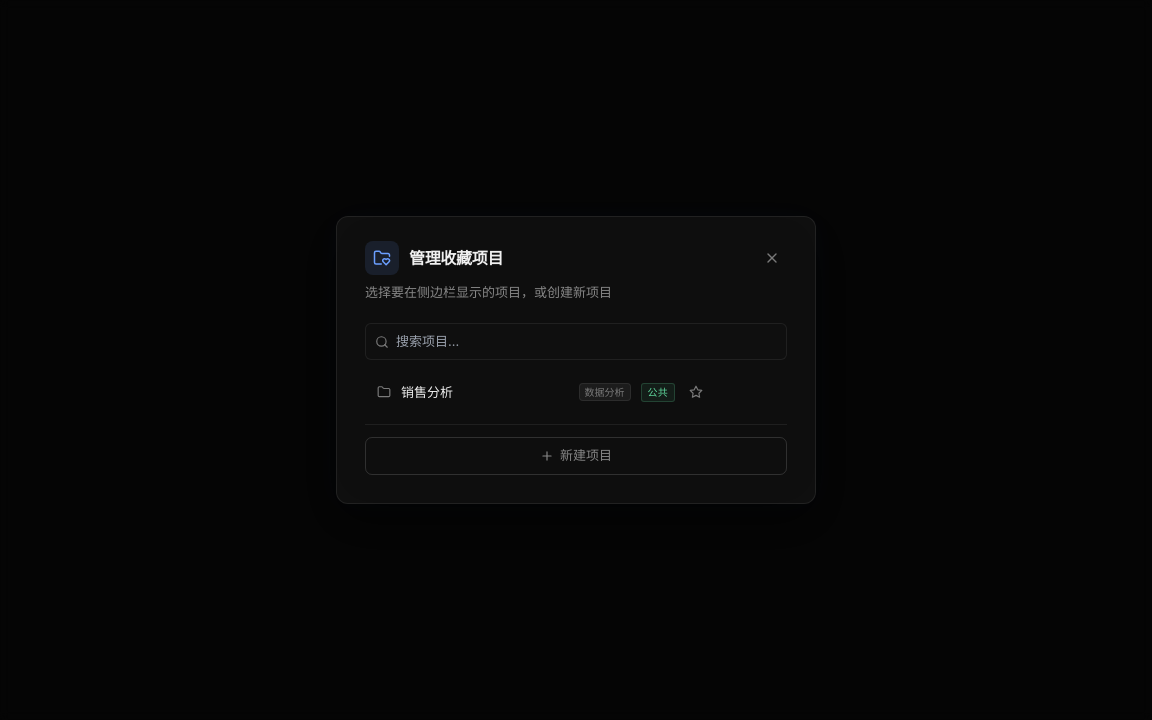
Test: ProjectPickerDialog › shows the empty hint when no project matches
Type "不存在的项目" into the field with placeholder "搜索项目…" at x=576, y=342, box x1=365 y1=323 x2=787 y2=360
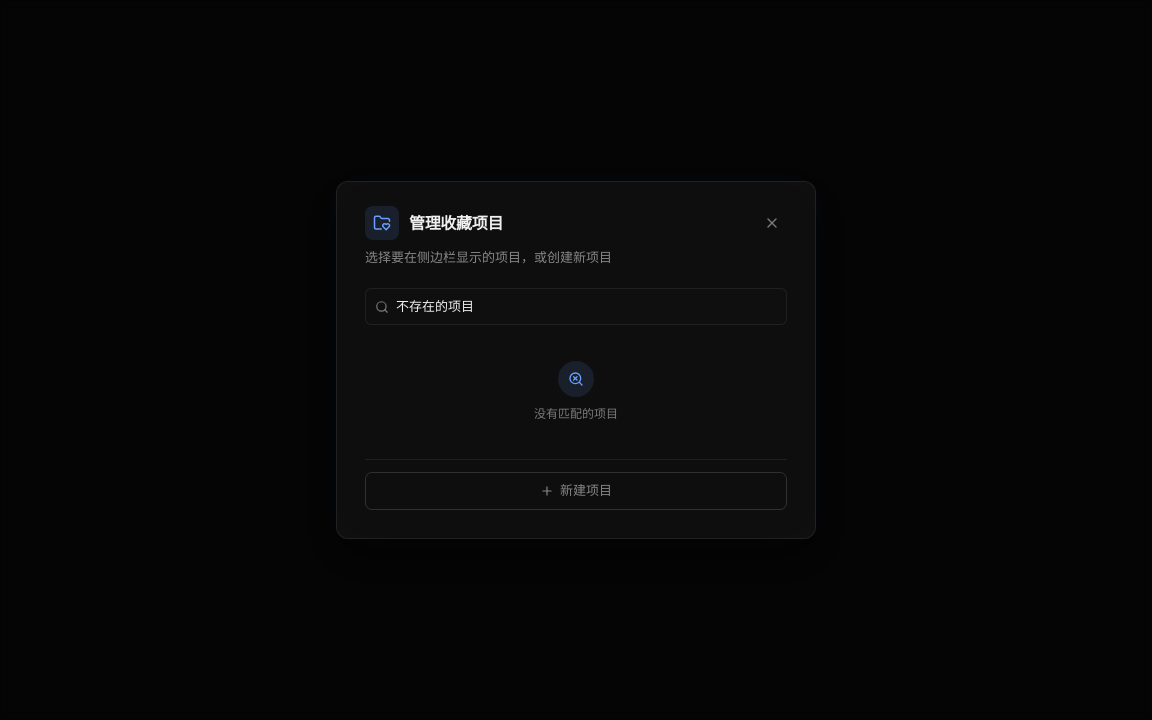
Expected: the element showing "没有匹配的项目" is shown, x1=534 y1=361 x2=618 y2=421
